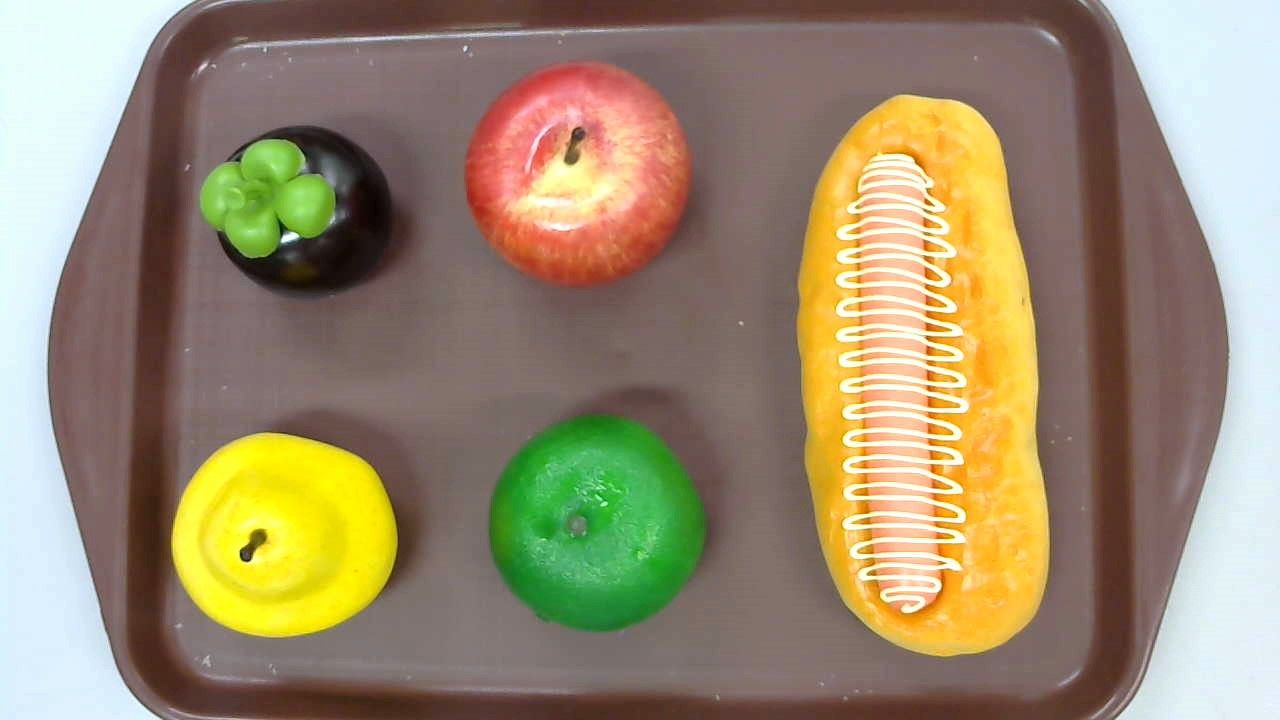green orange: (489, 414, 707, 632)
hot dog: (795, 93, 1050, 657)
mangosteen: (198, 125, 394, 297)
red apple: (465, 59, 694, 290)
yellow pear: (170, 431, 398, 639)
